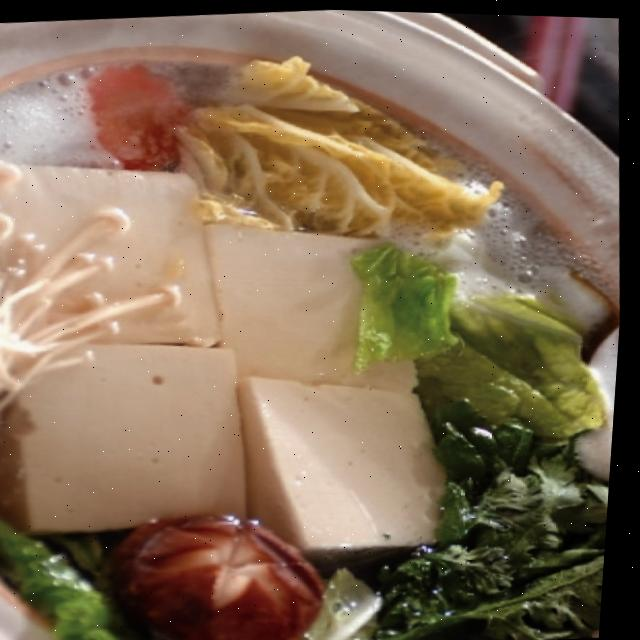豆腐料理: (0, 34, 638, 640)
